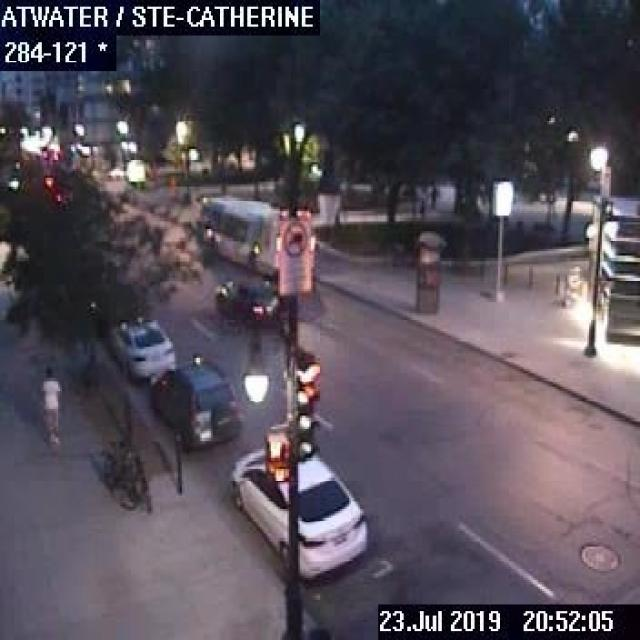bus: (196, 191, 315, 275)
pedestrian: (36, 363, 60, 443)
vehicle: (230, 444, 367, 578), (146, 356, 236, 446), (110, 316, 174, 378), (214, 276, 278, 324)
